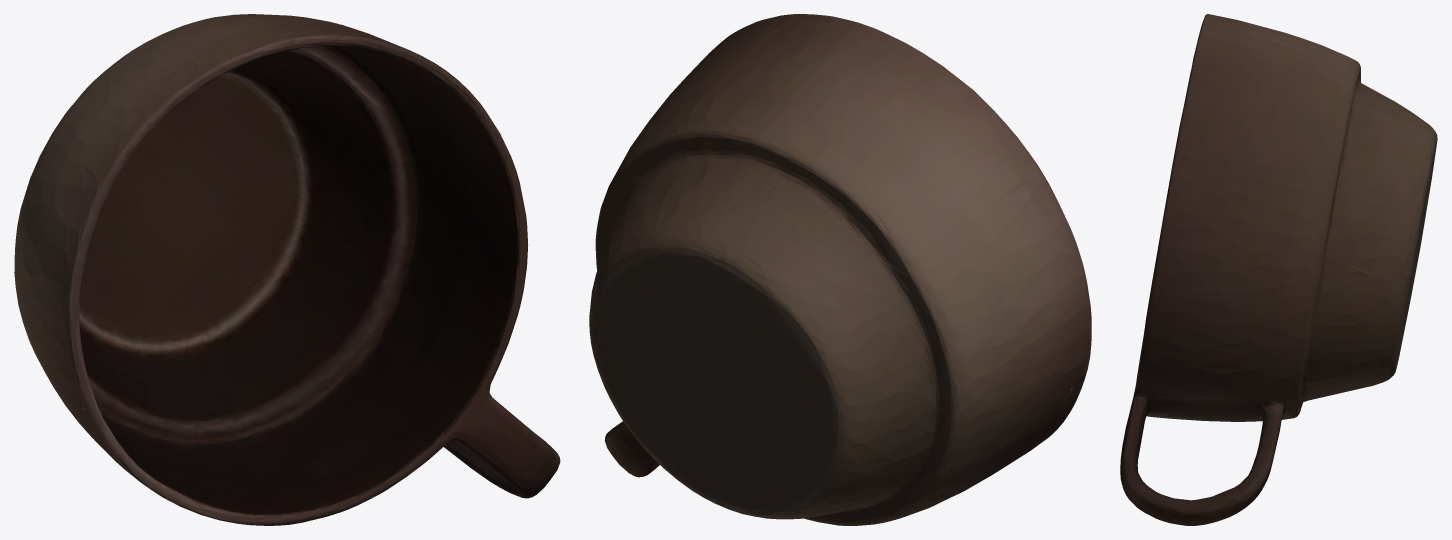
The model's file is mug.glb.
3 views of the same model, side by side, from view 1: azimuth 30°, elevation 25°; view 2: azimuth 150°, elevation 25°; view 3: azimuth 270°, elevation 25° (orthographic). The views are drawn at different scales.
Parts seen in each view (by area): view 1: geometry_0; view 2: geometry_0; view 3: geometry_0.
Part boxes in pixels (box(x1,y1,x2,y2)): geometry_0: box(14, 14, 560, 525); geometry_0: box(589, 14, 1091, 525); geometry_0: box(1120, 14, 1437, 525).
Size of the model in its own units: 0.0927 by 0.0939 by 0.0663.
1 material, 1 textured.
